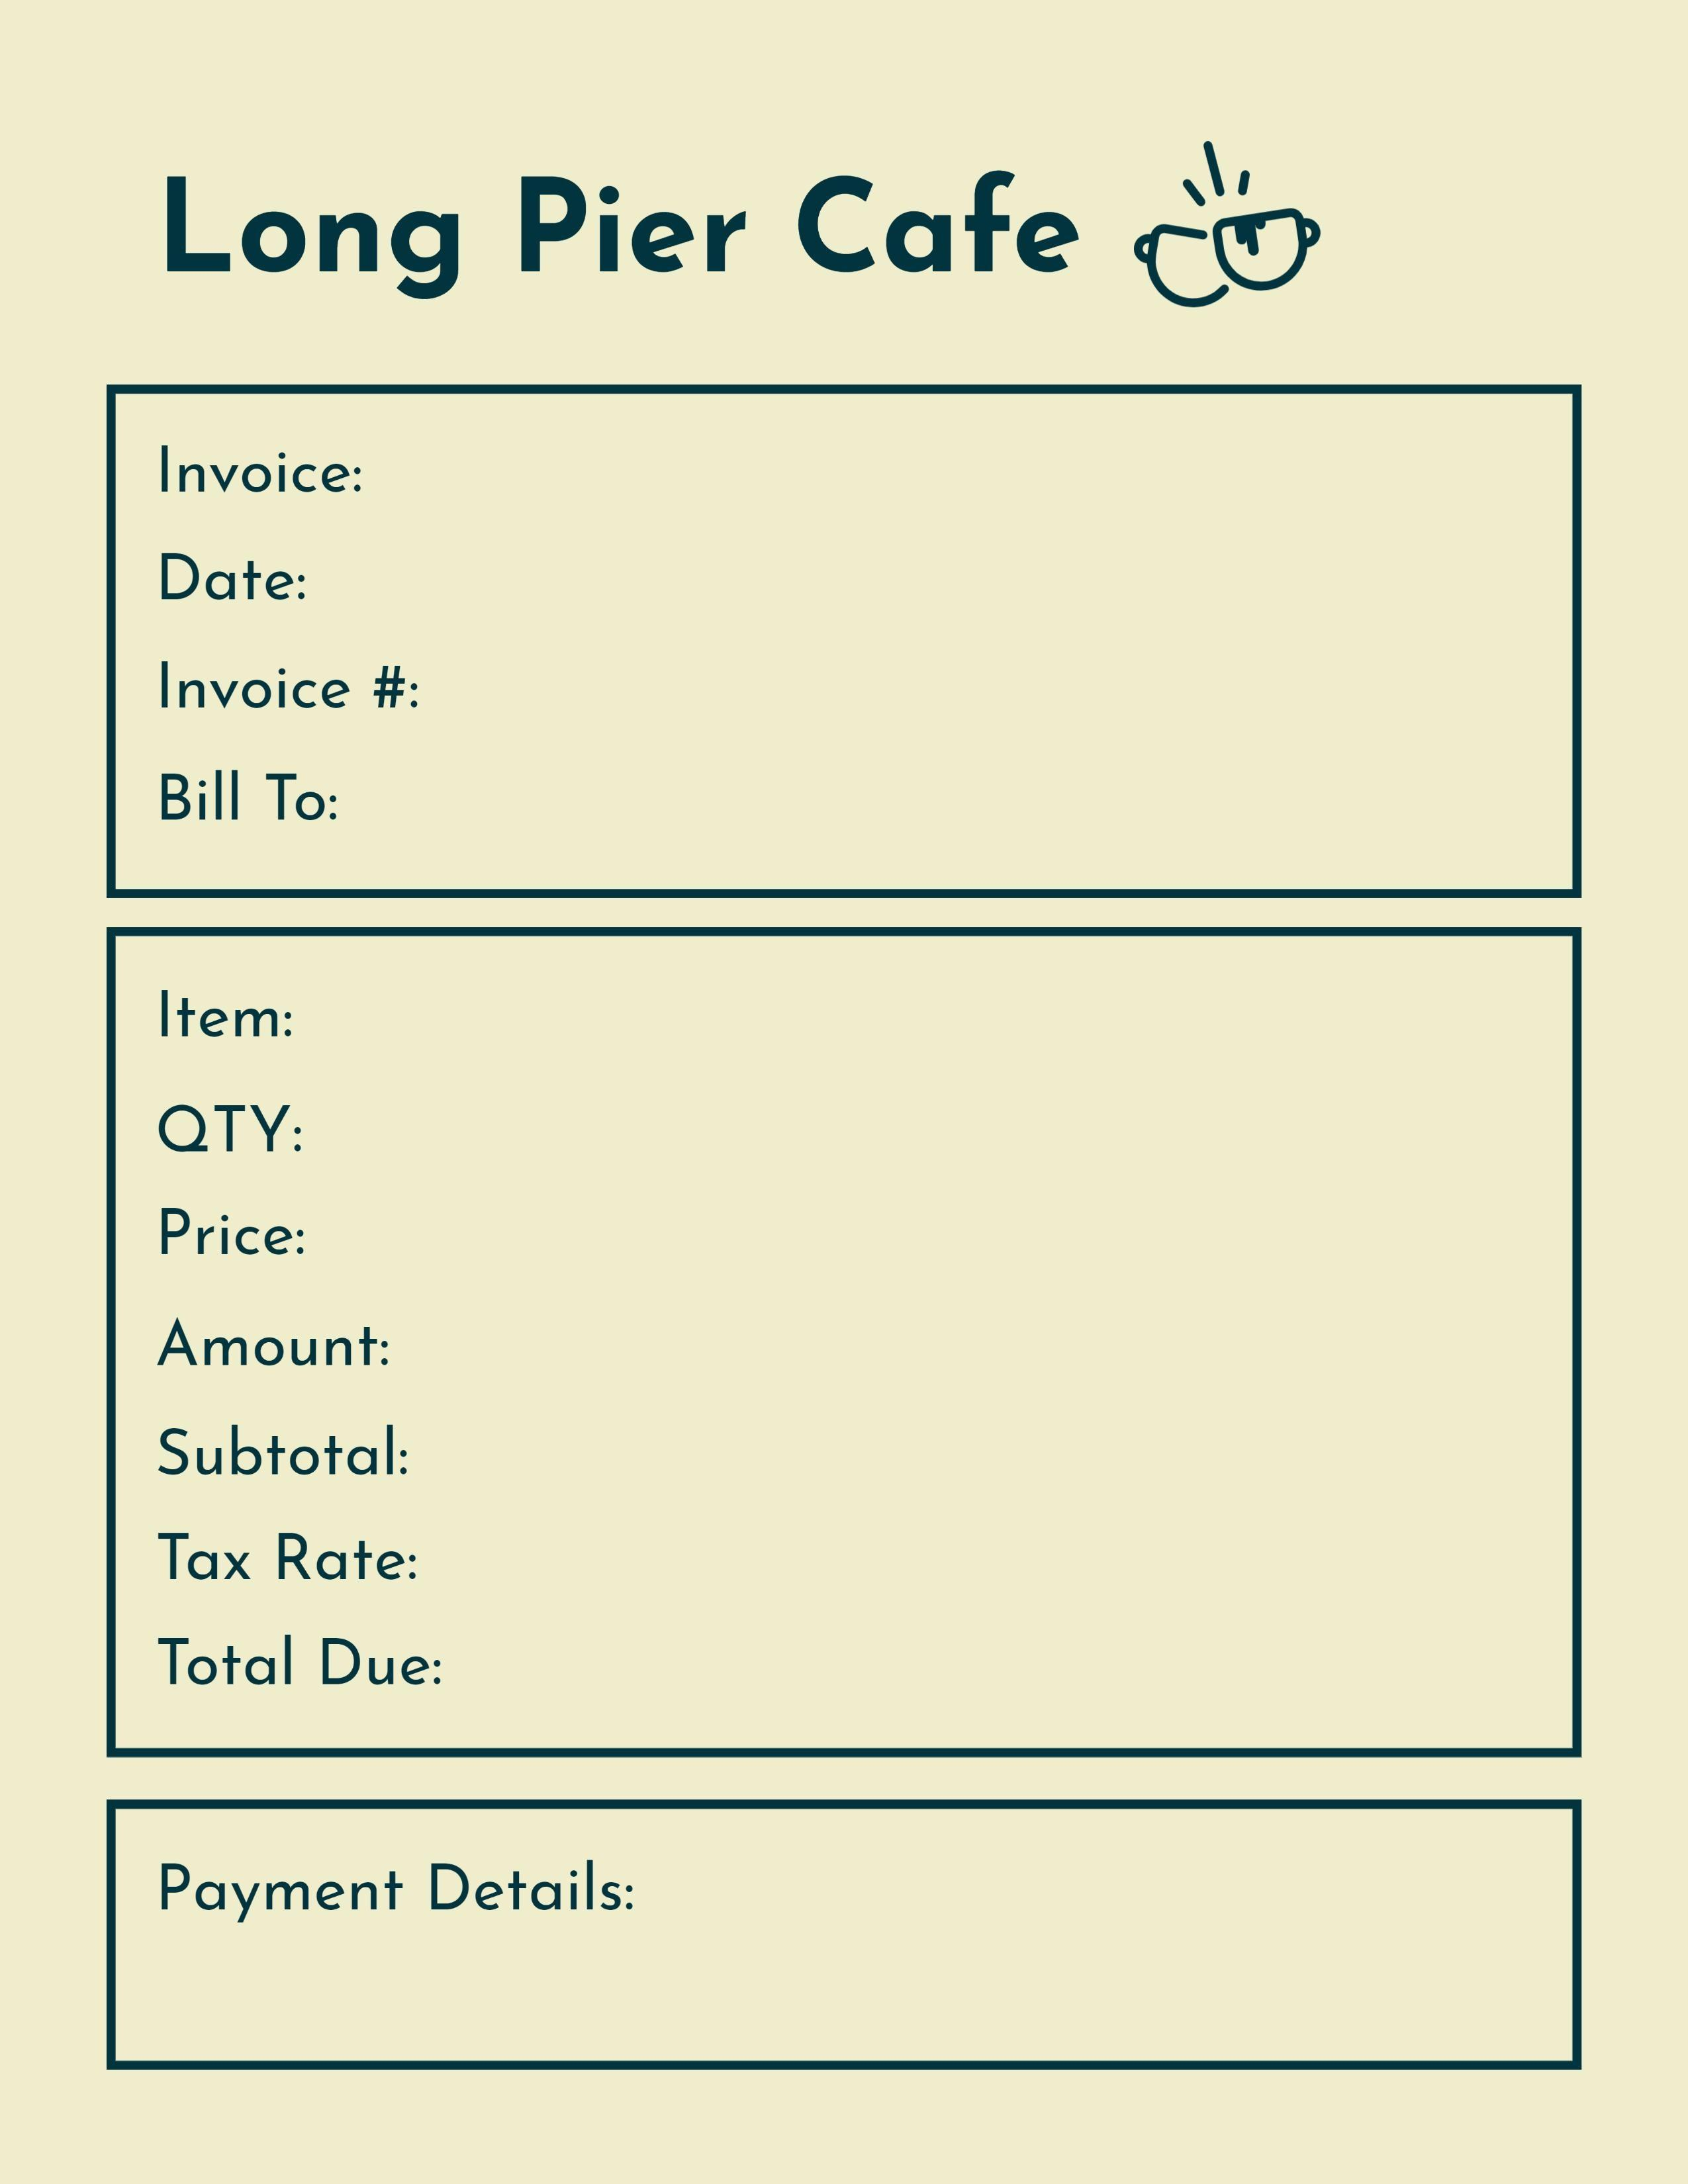ROI: (131, 966, 1537, 1388), (145, 1415, 1534, 1714), (142, 438, 1035, 748), (128, 1842, 1541, 2014), (117, 135, 1114, 333), (149, 752, 888, 858)
